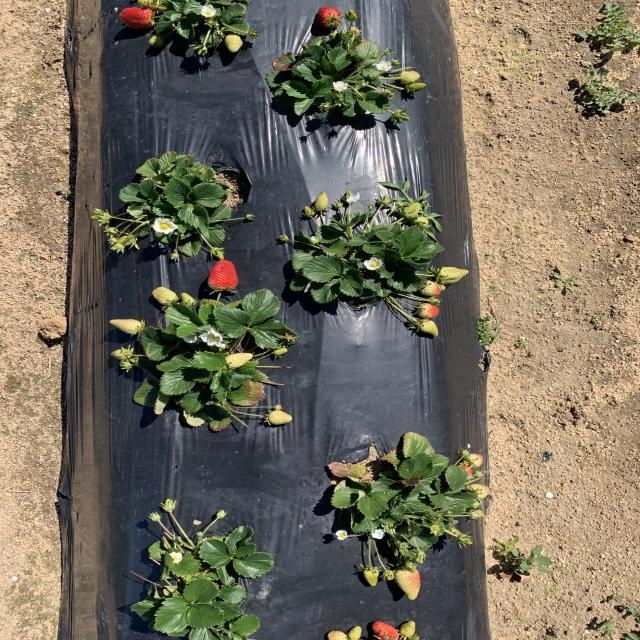unripe: (208, 258, 239, 292), (119, 6, 156, 28), (316, 6, 342, 28), (369, 622, 400, 640)
